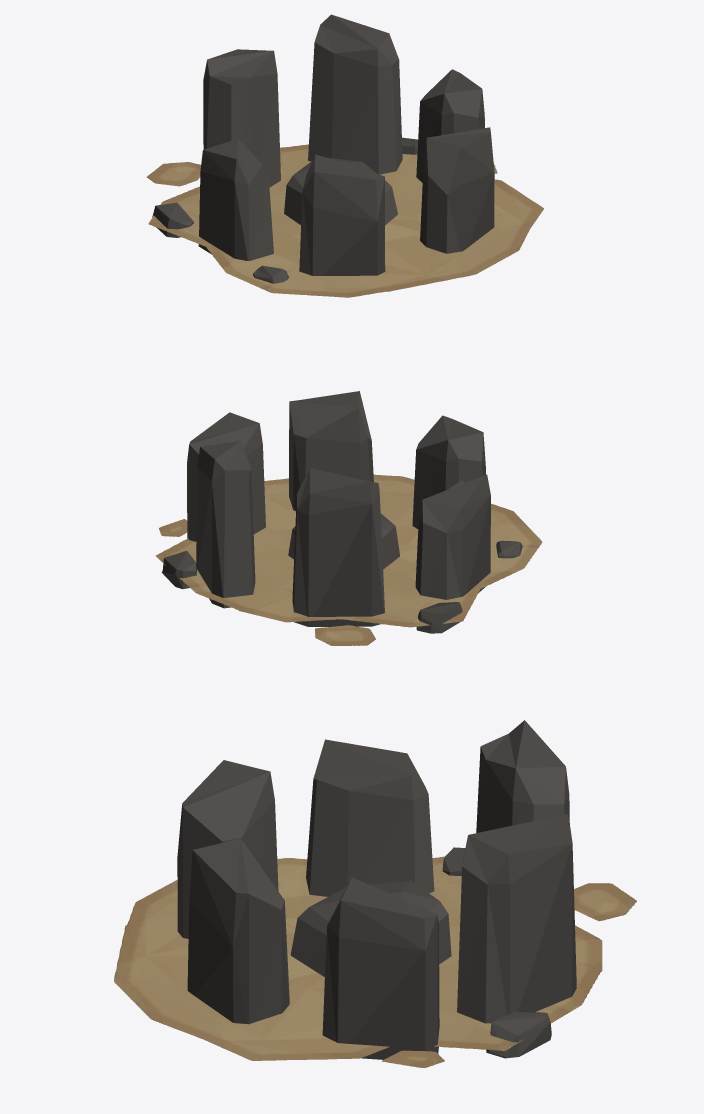
The model's file is stoneCircle.fbx.
The picture shows the model from 3 angles, top to bottom: view 1: azimuth 30°, elevation 25°; view 2: azimuth 150°, elevation 25°; view 3: azimuth 270°, elevation 25°; orthographic projection. The views are drawn at different scales.
Visible parts, largest first — view 1: stoneCircle, groundDecal; view 2: stoneCircle, groundDecal; view 3: stoneCircle, groundDecal.
Boxes of the visible parts, x1,y1,x2,y2 form: stoneCircle: (152, 14, 494, 283); groundDecal: (147, 144, 543, 297); stoneCircle: (161, 391, 522, 633); groundDecal: (155, 474, 542, 645); stoneCircle: (177, 720, 576, 1059); groundDecal: (114, 856, 636, 1067).
Bounding box in the file's own units: 4 × 1.32 × 4.
